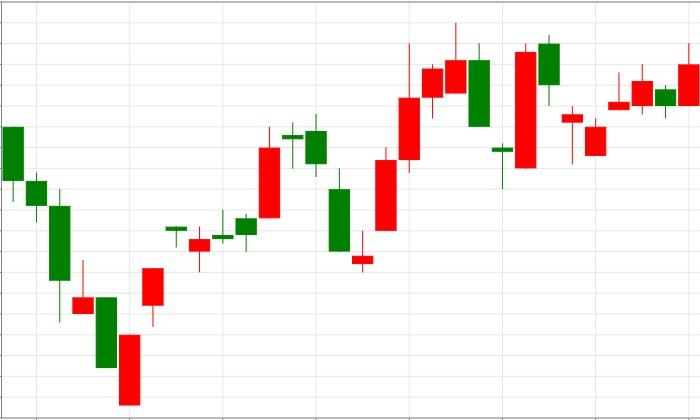morning_star_rise: (282, 114, 396, 274)
